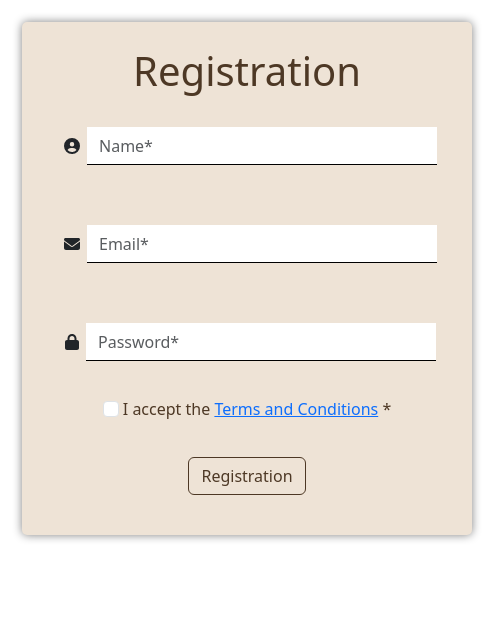
Test: Form checks › Email input field › Should get an errormessage when email input is empty, both name and password fields are filled correctly and button is clicked
Type "John Doe" into the field with placeholder "Name*". click: (262, 146)
box: [87,127,437,165]
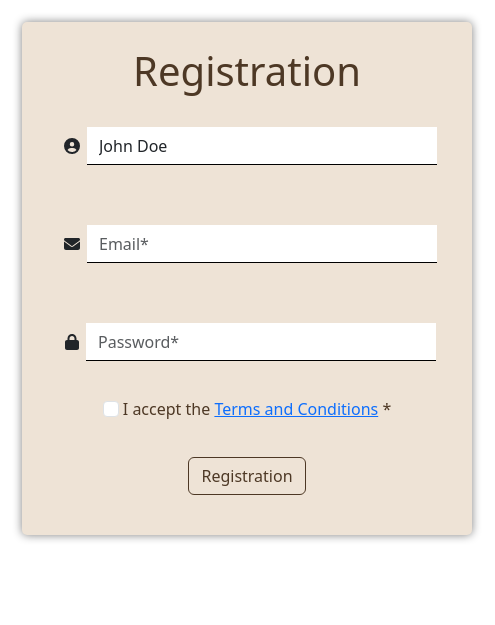
Type "12345678" into the password field with placeholder "Password*". click: (261, 342)
box: [86,323,436,361]
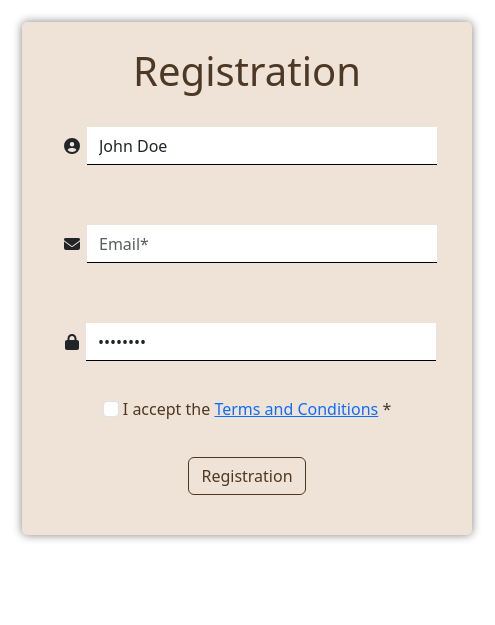
Click the button "Registration". click: (247, 476)
box: [188,457,306,495]
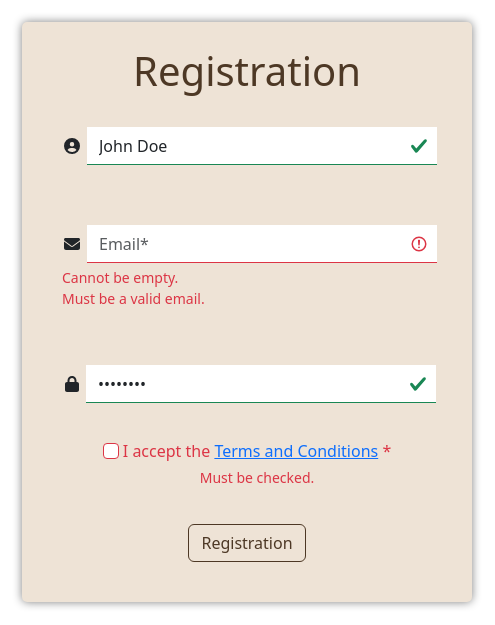
Check: the list item "Cannot be empty." is shown, box [62,268,178,287]
